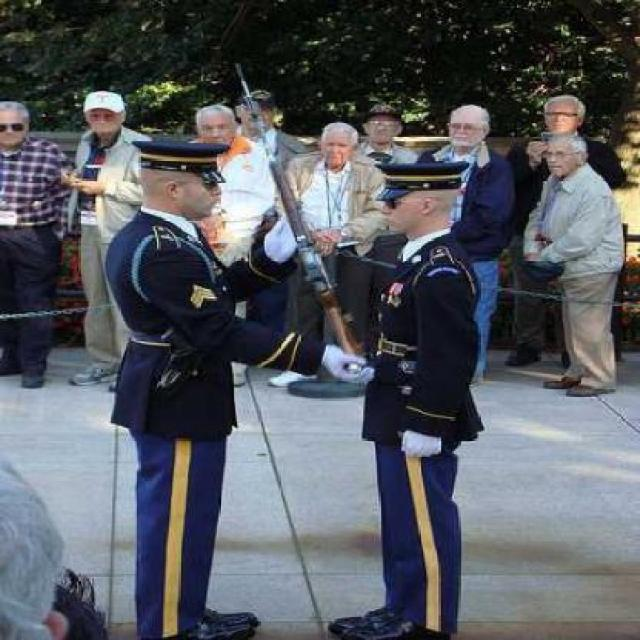weapon: (234, 62, 366, 371)
